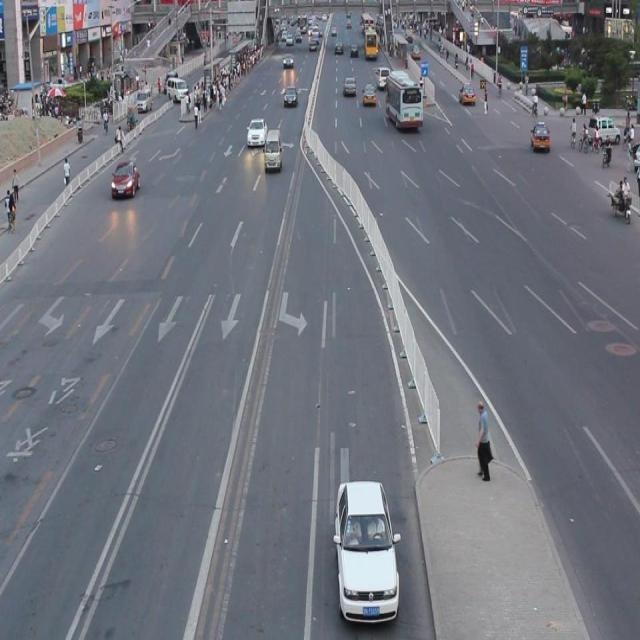car: (334, 480, 399, 620), (110, 160, 140, 198)
